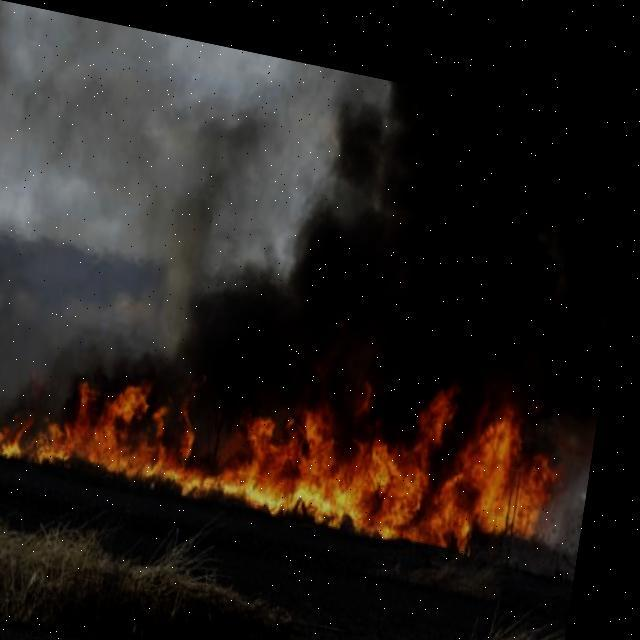Fire: (0, 277, 579, 541)
